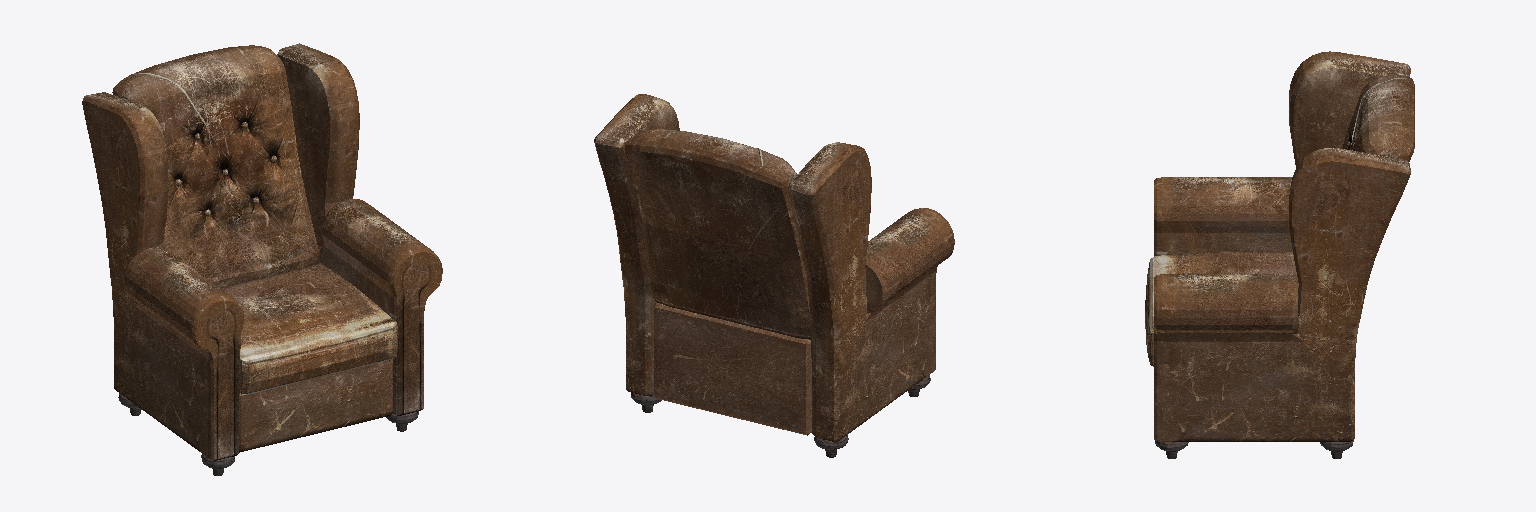
The picture shows the model from 3 angles: view 1: azimuth 30°, elevation 25°; view 2: azimuth 150°, elevation 25°; view 3: azimuth 270°, elevation 25°; orthographic projection.
Visible parts, largest first — view 1: LeatherArmChair; view 2: LeatherArmChair; view 3: LeatherArmChair.
Part boxes in pixels (left/top/right/bottom): LeatherArmChair: left=82, top=43, right=442, bottom=475; LeatherArmChair: left=594, top=94, right=954, bottom=457; LeatherArmChair: left=1145, top=51, right=1414, bottom=458.
Bounding box in the file's own units: 2.38 × 2.82 × 2.21.
1 materials, 1 textured.